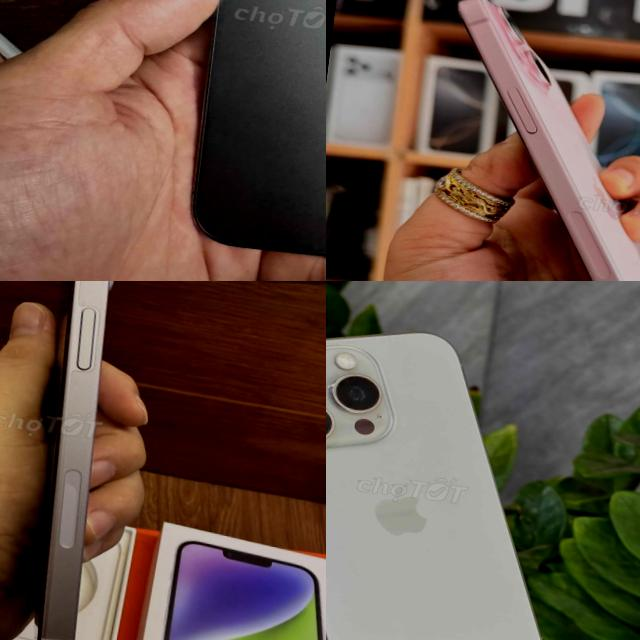gen_12_13: (173, 0, 326, 281)
gen_14: (0, 281, 143, 640)
gen_15: (402, 0, 640, 281)
gen_16: (326, 303, 590, 640)
